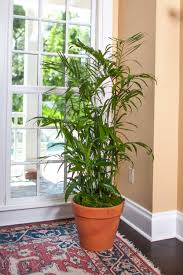bamboo: (58, 33, 139, 196)
